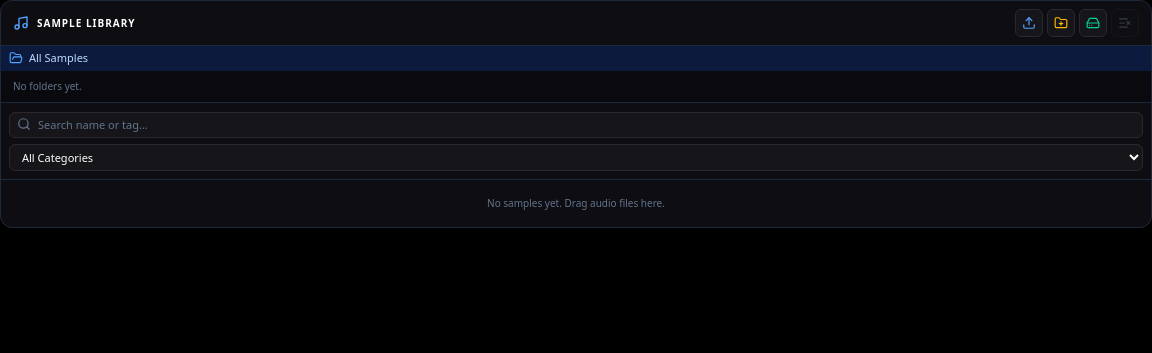
Test: SampleBrowser coverage › disables import with nothing selected
Expected: the text "No samples yet. Drag audio files here." is shown, [487,196,665,210]
Click the button titled "Link a folder on disk" at x=1093, y=23, box [1079,9,1107,37]
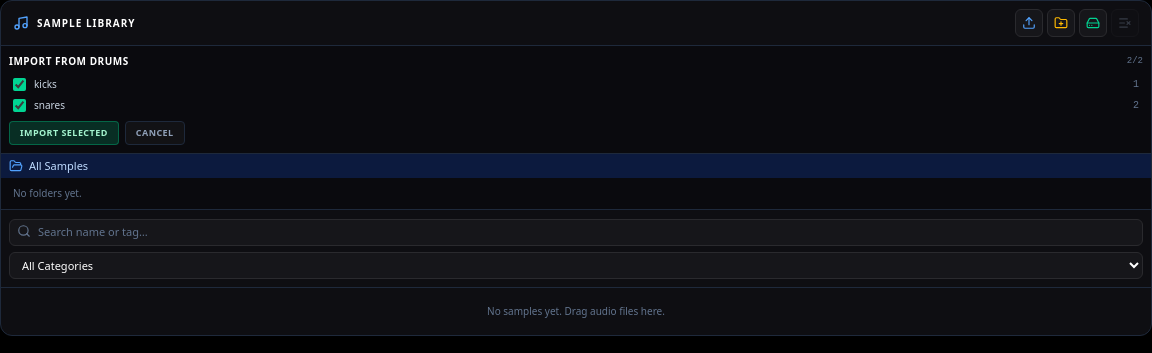
Now the checkbox named "Import kicks" is shown
Click the checkbox named "Import kicks" at x=20, y=84, box [13,78,26,91]
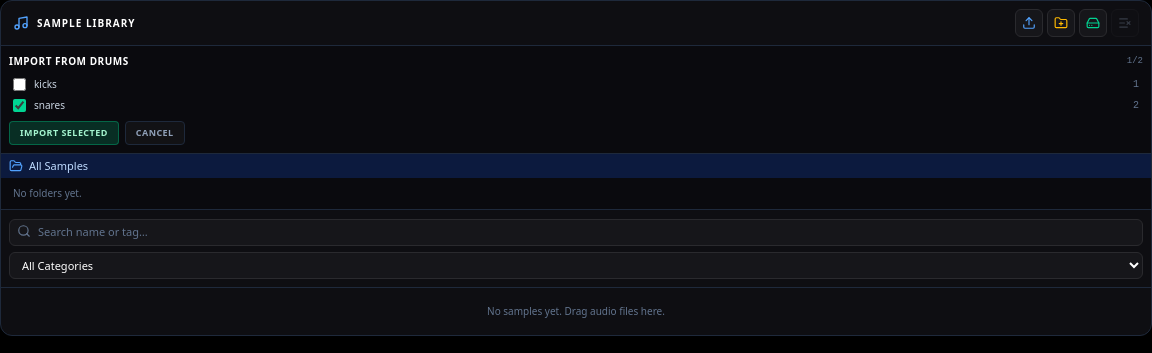
Click the checkbox named "Import snares" at x=20, y=106, box [13,99,26,112]
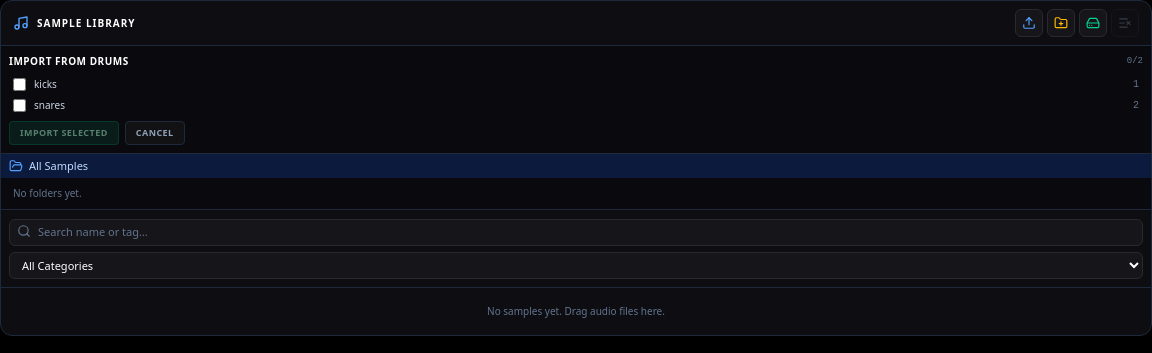
Now the text "0/2" is shown, box [1127,55,1143,68]
Now the button "Import selected" is disabled, box [9,121,119,144]
